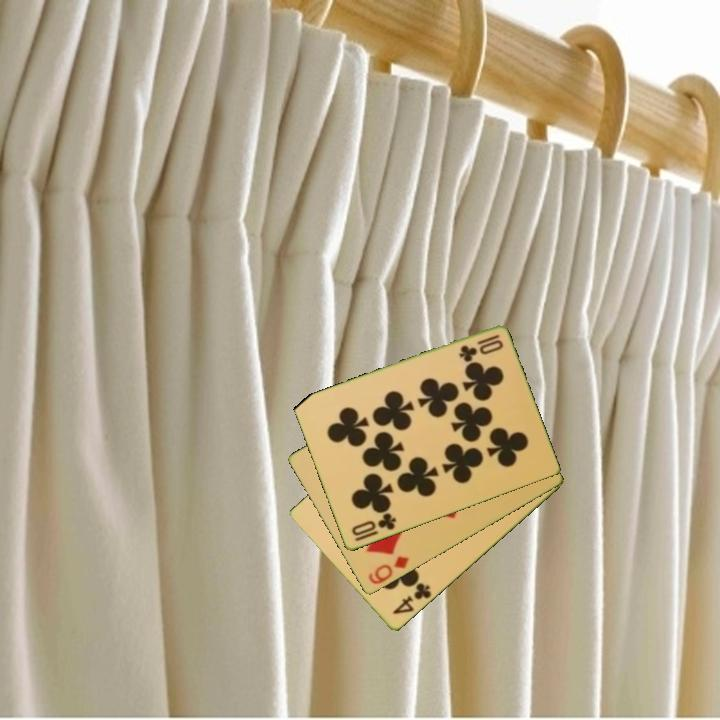10c: (348, 510, 399, 544), (455, 331, 506, 364)
4c: (389, 579, 434, 618)
6d: (364, 553, 412, 588)
